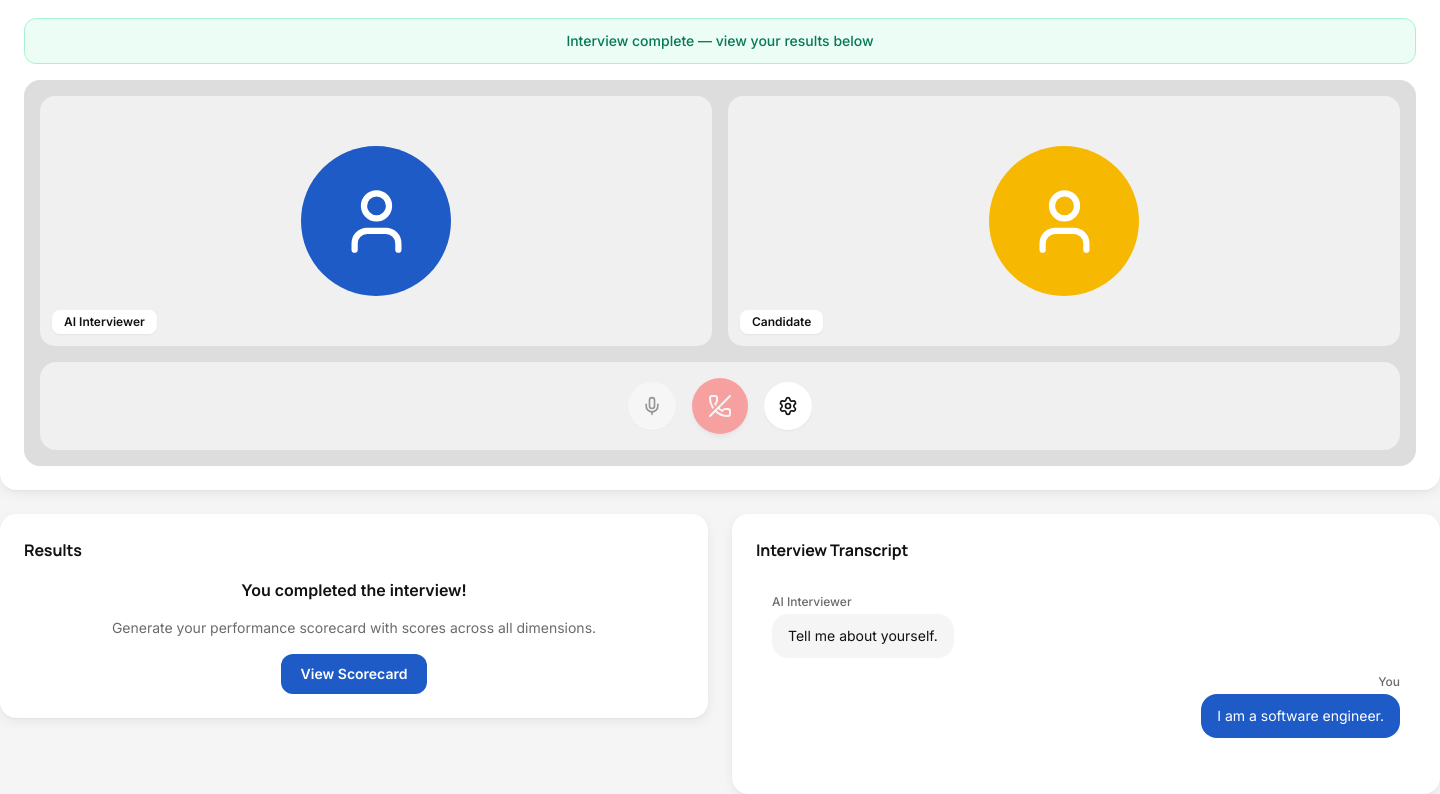
Scenario: InterviewChatPage — completion & scorecard › Req 7.6 — failure re-enables the compute control › shows an error message when computeScorecard returns null
(page scrolled)
Click the button "View Scorecard". click: point(354, 674)
box: [281,654,427,694]
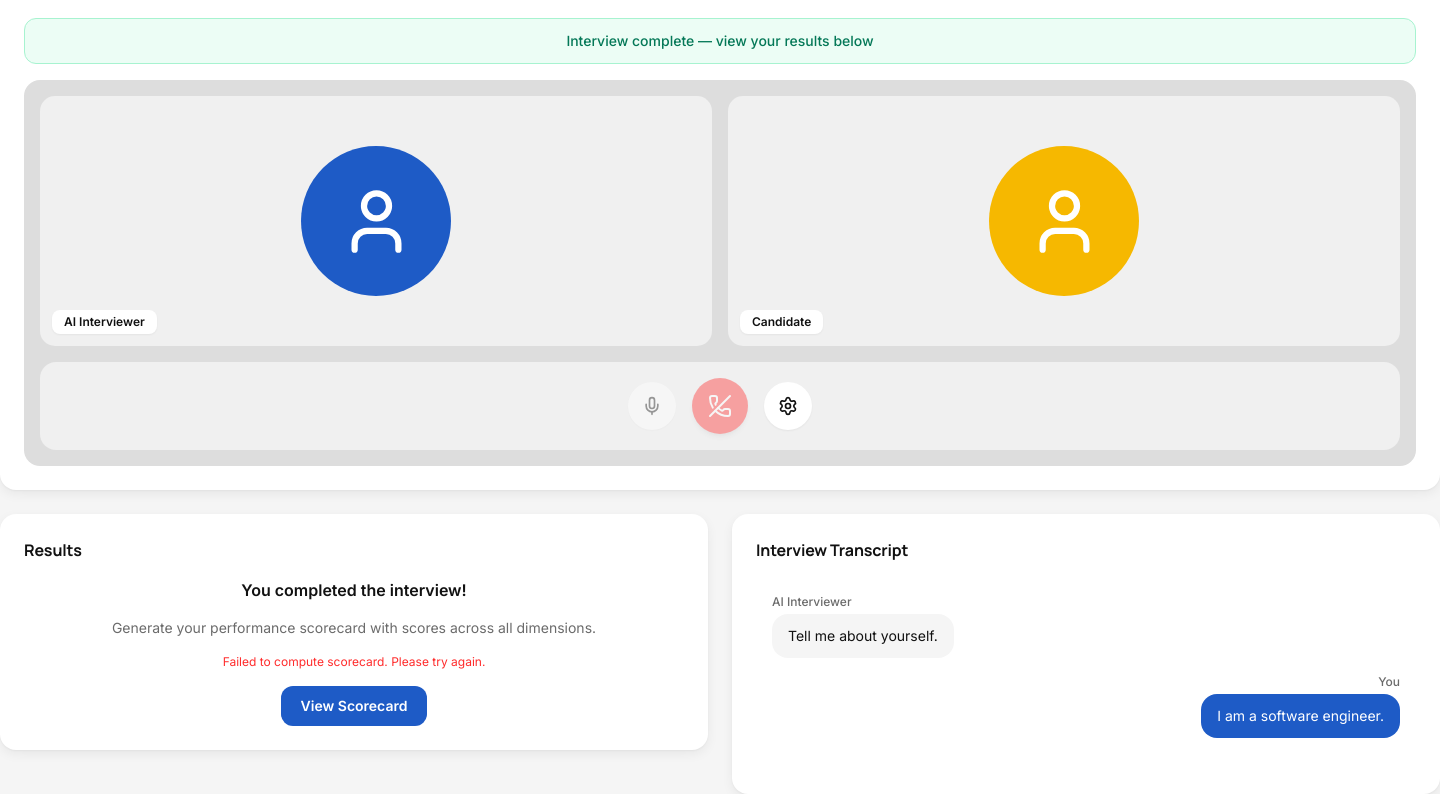
Check: the message "Failed to compute scorecard. Please try again." is shown, box [223,654,485,670]
